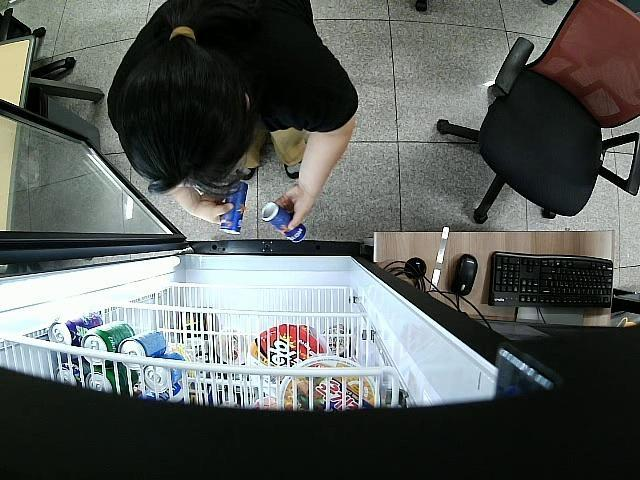16_hot6: (260, 204, 308, 244), (216, 183, 248, 235)
